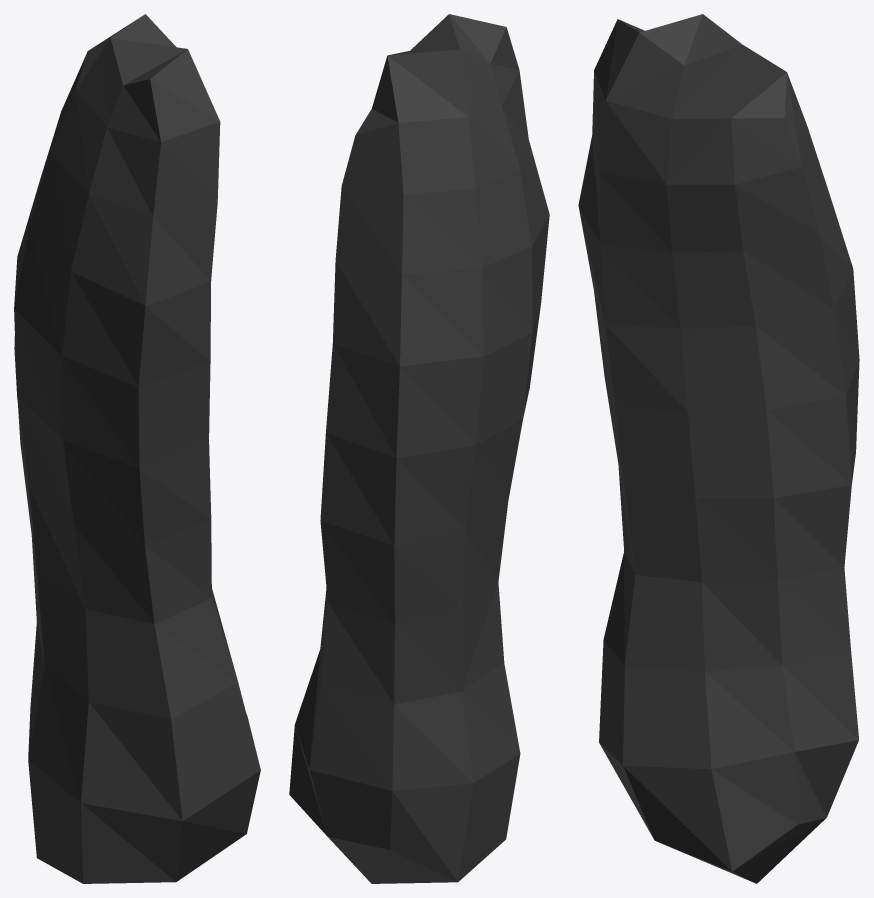
3 views of the same model, side by side, from view 1: azimuth 30°, elevation 25°; view 2: azimuth 150°, elevation 25°; view 3: azimuth 270°, elevation 25° (orthographic). The views are drawn at different scales.
Visible parts, largest first — view 1: world; view 2: world; view 3: world.
Boxes of the visible parts, x1,y1,x2,y2 form: world: (14, 14, 260, 883); world: (289, 14, 549, 883); world: (578, 14, 859, 883).
Bounding box in the file's own units: 0.0118 × 0.0451 × 0.0137.
1 material, 1 textured.
